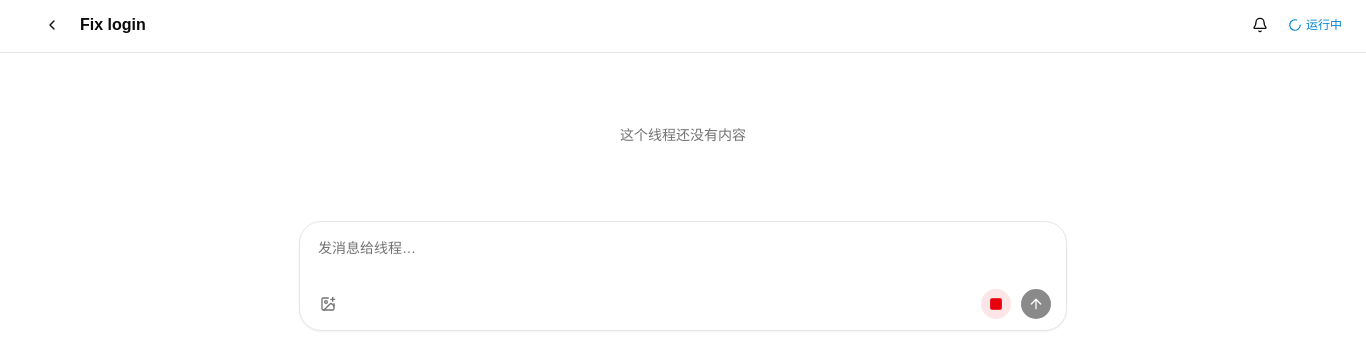
Test case: ThreadDetailPage › chat › keeps Stop pending until the refreshed detail confirms it
Click the button named "停止": point(996, 304) [980,288,1012,320]
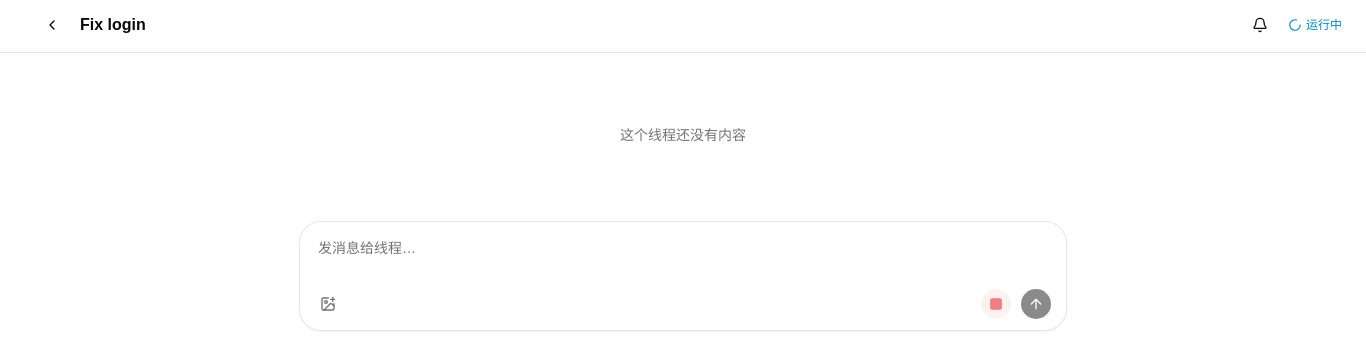
Expected: the text "运行中" is shown, [1288,16,1342,32]
Expected: the button named "停止中…" is disabled, [980,288,1012,320]
